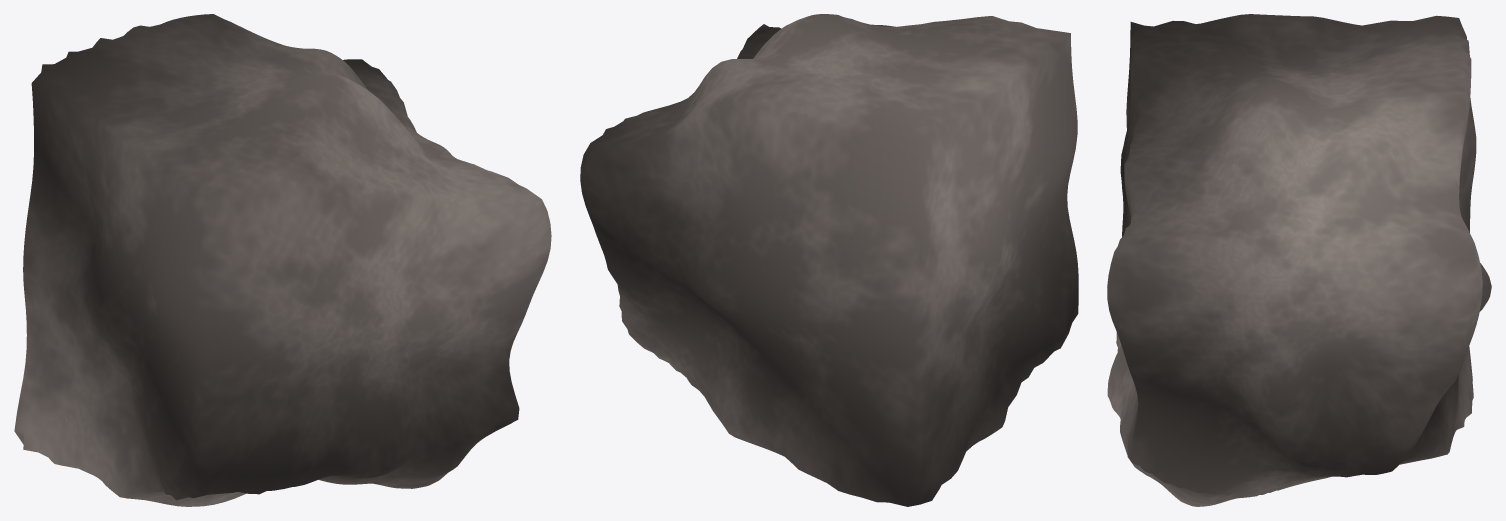
File: asteroid-flake.glb
The picture shows the model from 3 angles, left to right: view 1: azimuth 30°, elevation 25°; view 2: azimuth 150°, elevation 25°; view 3: azimuth 270°, elevation 25°; orthographic projection. The views are drawn at different scales.
Parts seen in each view (by area): view 1: asteroid_5004; view 2: asteroid_5004; view 3: asteroid_5004.
Boxes of the visible parts, x1,y1,x2,y2 form: asteroid_5004: (14,14,551,506); asteroid_5004: (580,14,1078,506); asteroid_5004: (1107,14,1491,506).
Size of the model in its own units: 21.55 by 23.76 by 20.44.
Materials: 1 (1 with a texture image).
